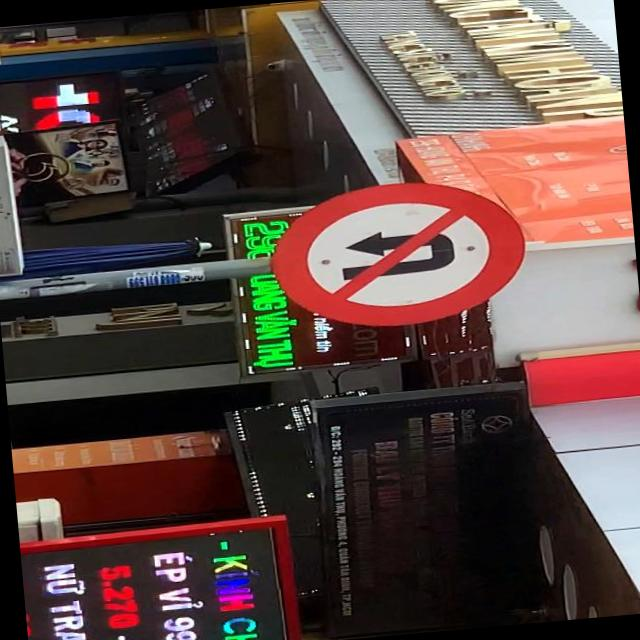P-124a1: (266, 172, 528, 334)
